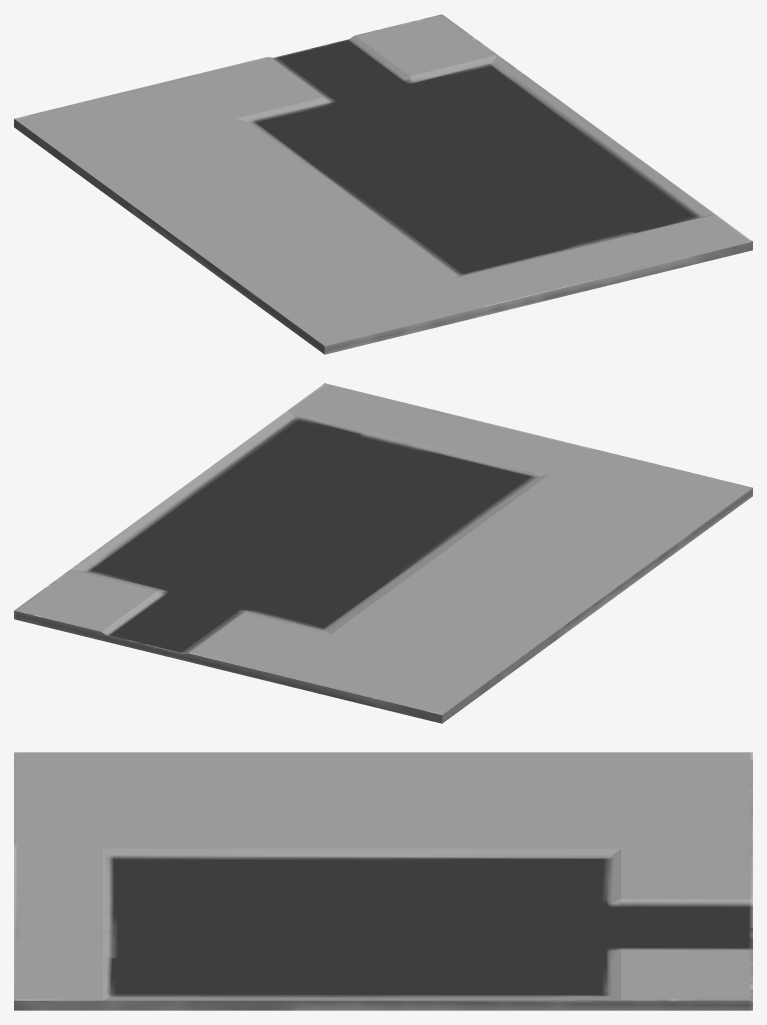
Rendered from L1_floor.fbx.
The picture shows the model from 3 angles, top to bottom: view 1: azimuth 30°, elevation 25°; view 2: azimuth 150°, elevation 25°; view 3: azimuth 270°, elevation 25°; orthographic projection. The views are drawn at different scales.
Parts seen in each view (by area): view 1: Floor; view 2: Floor; view 3: Floor.
Part boxes in pixels (x1,y1,x2,y2): Floor: (14, 14, 752, 354); Floor: (14, 383, 752, 723); Floor: (14, 752, 752, 1010).
Bounding box in the file's own units: 6458 × 124 × 8119.
